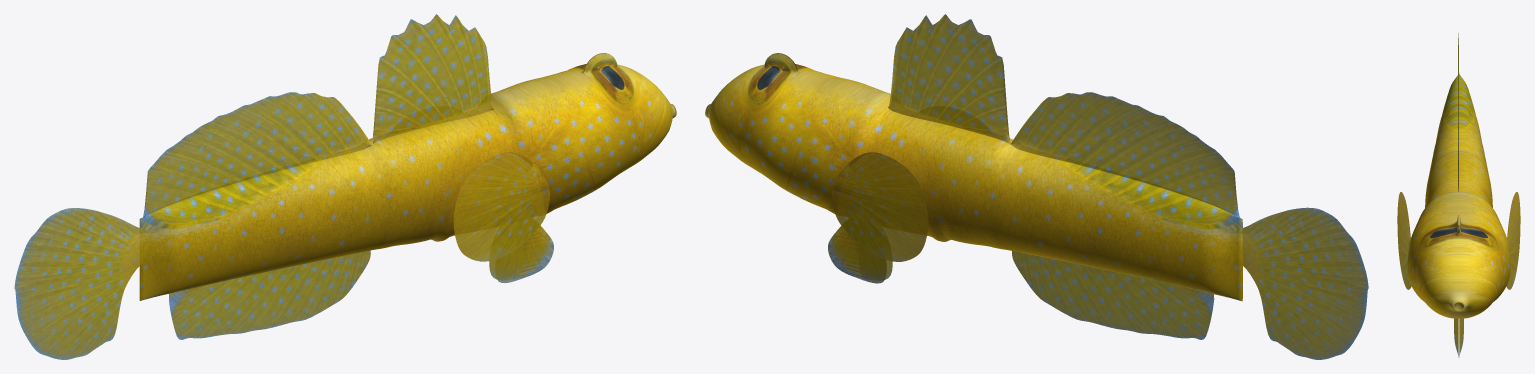
The model's file is cinctus-CqzZbUpC.glb.
3 views of the same model, side by side, from view 1: azimuth 30°, elevation 25°; view 2: azimuth 150°, elevation 25°; view 3: azimuth 270°, elevation 25° (orthographic). The views are drawn at different scales.
Parts seen in each view (by area): view 1: cinctus__body, cinctus__fin_1, cinctus__fin_0, cinctus__fin_2, cinctus__pectoral_1, cinctus__gill_1, cinctus__pelvic_1, cinctus__eye_1; view 2: cinctus__body, cinctus__fin_1, cinctus__fin_0, cinctus__fin_2, cinctus__pectoral_-1, cinctus__gill_-1, cinctus__pelvic_-1, cinctus__eye_-1; view 3: cinctus__body, cinctus__pectoral_1, cinctus__pectoral_-1, cinctus__eye_1, cinctus__eye_-1, cinctus__gill_1, cinctus__gill_-1, cinctus__pelvic_1, cinctus__pelvic_-1, cinctus__fin_1.
Part boxes in pixels (left/top/right/bottom): cinctus__body: left=139, top=64, right=676, bottom=300; cinctus__fin_1: left=141, top=14, right=494, bottom=219; cinctus__fin_0: left=14, top=208, right=145, bottom=359; cinctus__fin_2: left=169, top=250, right=370, bottom=339; cinctus__pectoral_1: left=453, top=152, right=550, bottom=261; cinctus__gill_1: left=564, top=116, right=624, bottom=204; cinctus__pelvic_1: left=495, top=225, right=553, bottom=283; cinctus__eye_1: left=584, top=53, right=630, bottom=105; cinctus__body: left=705, top=64, right=1242, bottom=301; cinctus__fin_1: left=888, top=14, right=1239, bottom=217; cinctus__fin_0: left=1243, top=207, right=1368, bottom=359; cinctus__fin_2: left=1012, top=251, right=1214, bottom=339; cinctus__pectoral_-1: left=831, top=152, right=928, bottom=261; cinctus__gill_-1: left=757, top=116, right=816, bottom=204; cinctus__pelvic_-1: left=828, top=226, right=886, bottom=283; cinctus__eye_-1: left=750, top=53, right=797, bottom=105; cinctus__body: left=1408, top=73, right=1509, bottom=318; cinctus__pectoral_1: left=1397, top=192, right=1411, bottom=289; cinctus__pectoral_-1: left=1506, top=192, right=1520, bottom=289; cinctus__eye_1: left=1420, top=215, right=1458, bottom=245; cinctus__eye_-1: left=1459, top=215, right=1497, bottom=245; cinctus__gill_1: left=1407, top=225, right=1423, bottom=301; cinctus__gill_-1: left=1494, top=225, right=1510, bottom=301; cinctus__pelvic_1: left=1454, top=318, right=1458, bottom=357; cinctus__pelvic_-1: left=1459, top=318, right=1463, bottom=357; cinctus__fin_1: left=1458, top=33, right=1458, bottom=191.
Bounding box in the file's own units: 1.24 × 0.5154 × 0.2402.
Materials: 5 (5 with a texture image).
